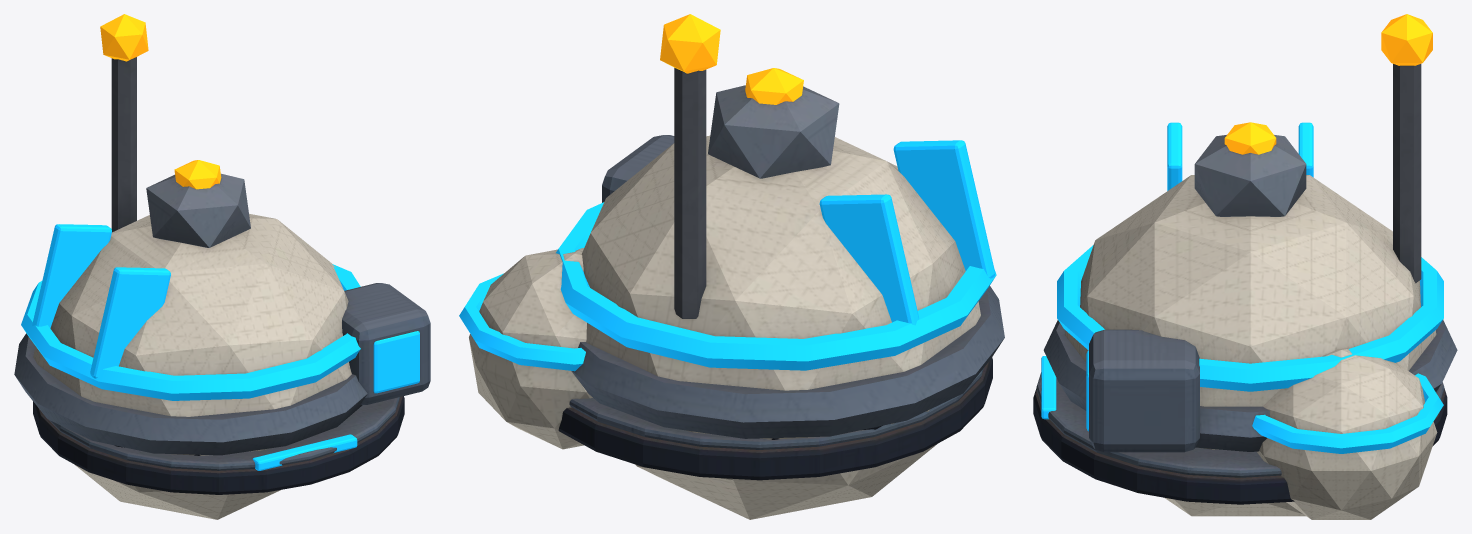
The model's file is colony-module.glb.
3 views of the same model, side by side, from view 1: azimuth 30°, elevation 25°; view 2: azimuth 150°, elevation 25°; view 3: azimuth 270°, elevation 25° (orthographic). The views are drawn at different scales.
Parts seen in each view (by area): view 1: Android Ceramic, Android Chassis, Android FactionAccent, Android Graphite, Android Energy; view 2: Android Ceramic, Android Chassis, Android FactionAccent, Android Graphite, Android Energy; view 3: Android Ceramic, Android Chassis, Android FactionAccent, Android Graphite, Android Energy.
Boxes of the visible parts, left/top/right/bottom form: Android Ceramic: left=33, top=213, right=351, bottom=519; Android Chassis: left=14, top=173, right=430, bottom=470; Android FactionAccent: left=21, top=224, right=419, bottom=470; Android Graphite: left=33, top=57, right=404, bottom=494; Android Energy: left=100, top=14, right=221, bottom=189; Android Ceramic: left=469, top=135, right=980, bottom=519; Android Chassis: left=569, top=85, right=1004, bottom=449; Android FactionAccent: left=459, top=140, right=996, bottom=371; Android Graphite: left=558, top=68, right=992, bottom=480; Android Energy: left=660, top=14, right=803, bottom=104; Android Ceramic: left=1064, top=175, right=1437, bottom=519; Android Chassis: left=1036, top=135, right=1457, bottom=477; Android FactionAccent: left=1041, top=122, right=1443, bottom=453; Android Graphite: left=1033, top=64, right=1447, bottom=504; Android Energy: left=1224, top=14, right=1432, bottom=154.
Bounding box in the file's own units: 0.913 × 1.07 × 0.84.
6 materials, 4 textured.
